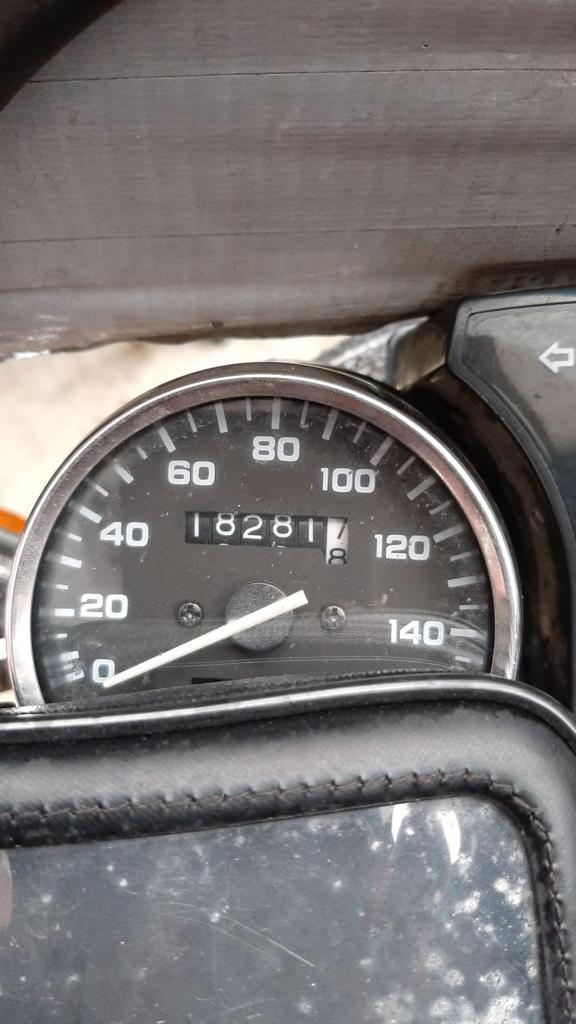1: (303, 511, 317, 554), (190, 509, 205, 546)
2: (243, 511, 263, 545)
7: (328, 512, 350, 539)
8: (215, 510, 237, 541), (272, 511, 294, 540), (326, 546, 348, 567)
odometer: (178, 506, 356, 570)
